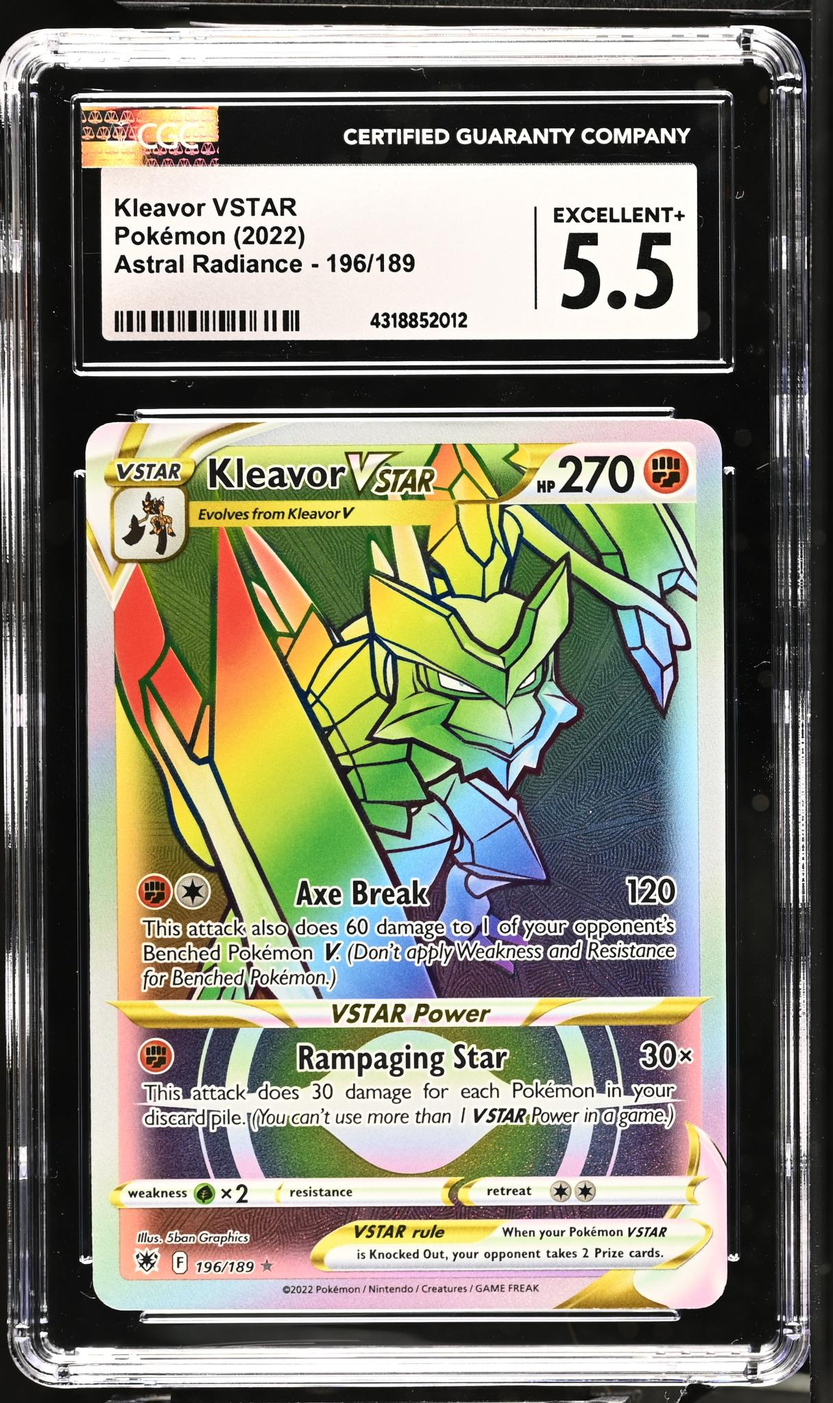card-2UtV: (85, 419, 728, 1311)
